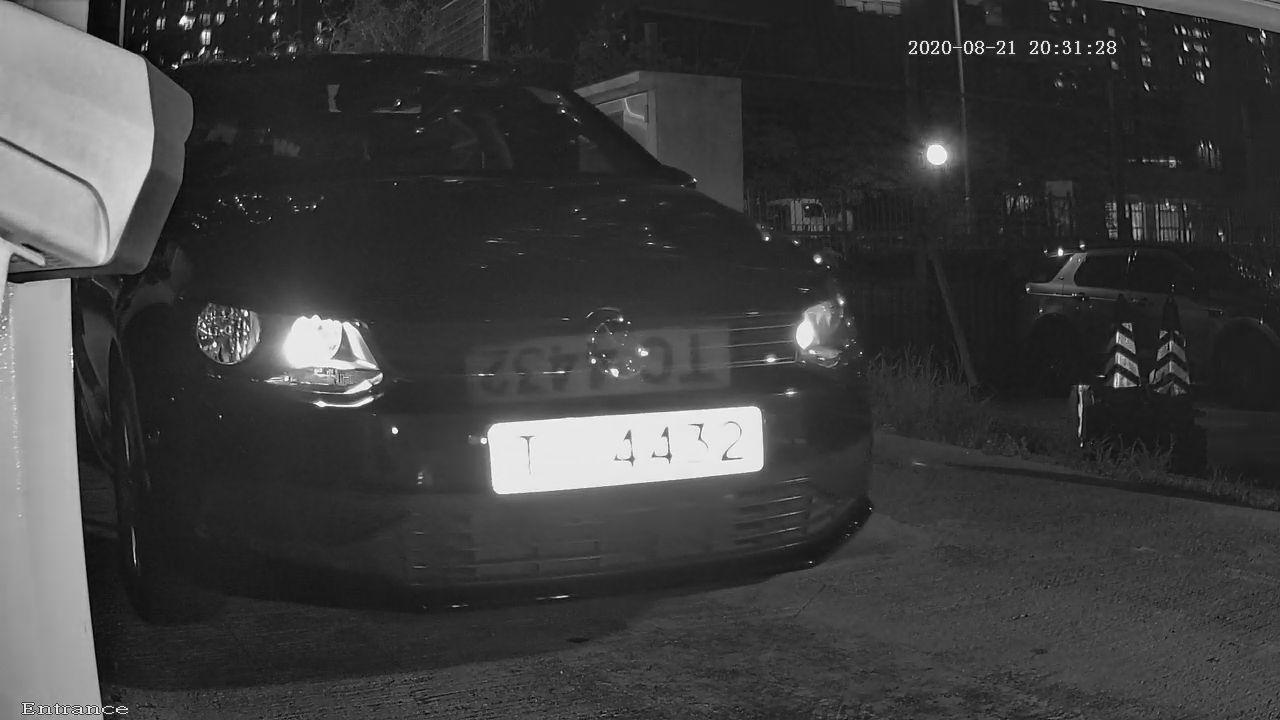Car: (35, 20, 978, 659)
License Plate: (467, 369, 797, 528)
